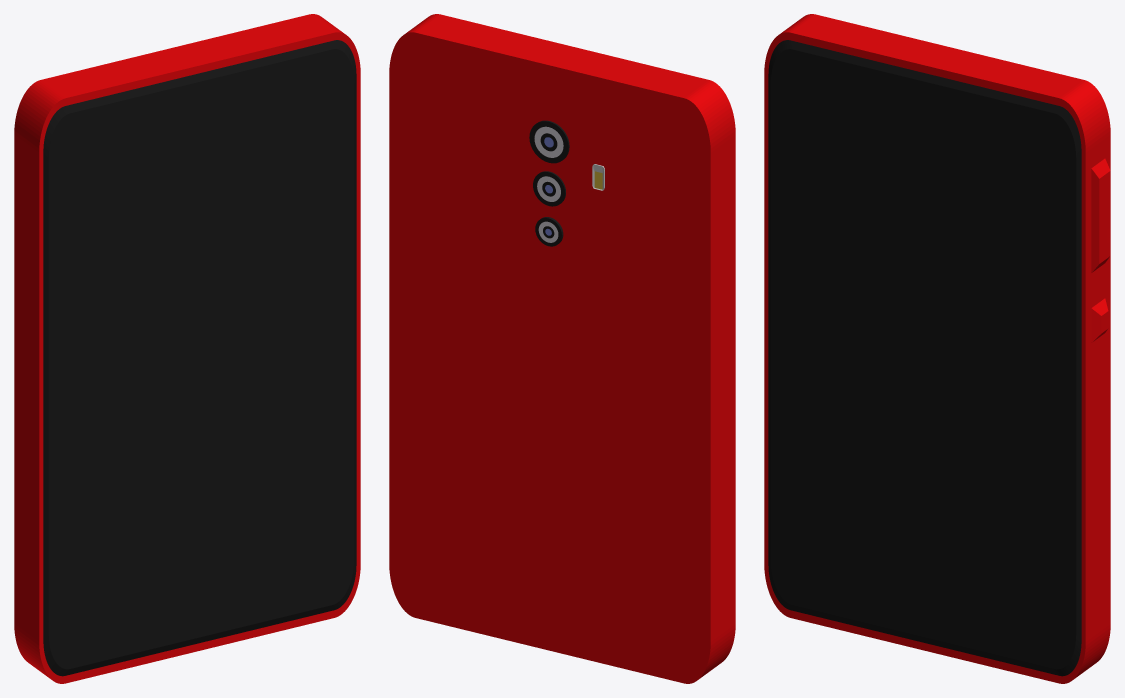
Rendered from phone_free.glb.
3 renders of one model, left to right at view 1: azimuth 30°, elevation 25°; view 2: azimuth 150°, elevation 25°; view 3: azimuth 330°, elevation 25°, orthographic.
Visible parts, largest first — view 1: Cube_0; view 2: Cube_0, Cylinder_1, Cylinder.001_2, Cylinder.002_3; view 3: Cube_0.
Part boxes in pixels (bbox=[...]): Cube_0: bbox=[14, 14, 360, 683]; Cube_0: bbox=[389, 14, 735, 683]; Cylinder_1: bbox=[529, 120, 569, 163]; Cylinder.001_2: bbox=[533, 171, 565, 206]; Cylinder.002_3: bbox=[535, 217, 563, 246]; Cube_0: bbox=[764, 14, 1110, 683].
Bounding box in the file's own units: 5.54 × 9.45 × 0.8155.
